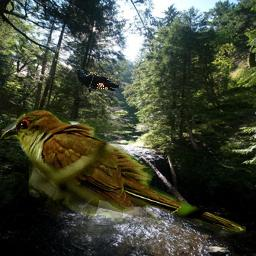Crow: (71, 67, 119, 99)
Cuckoo: (0, 107, 246, 235)
